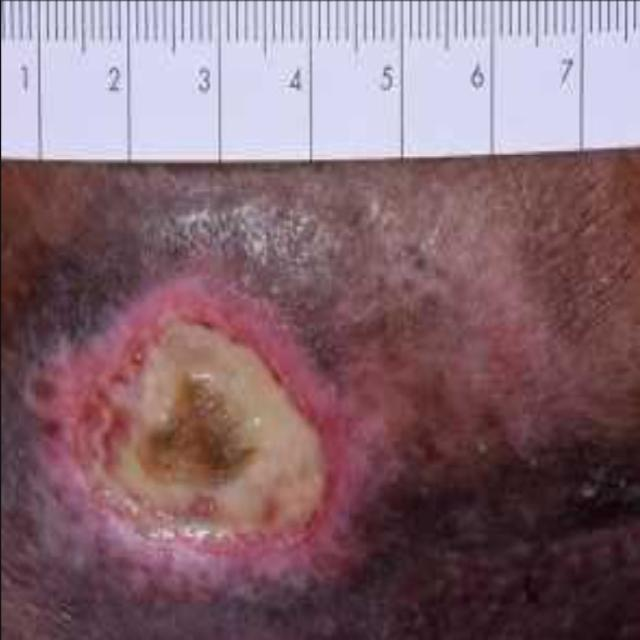Unstageable: (81, 324, 326, 553)
